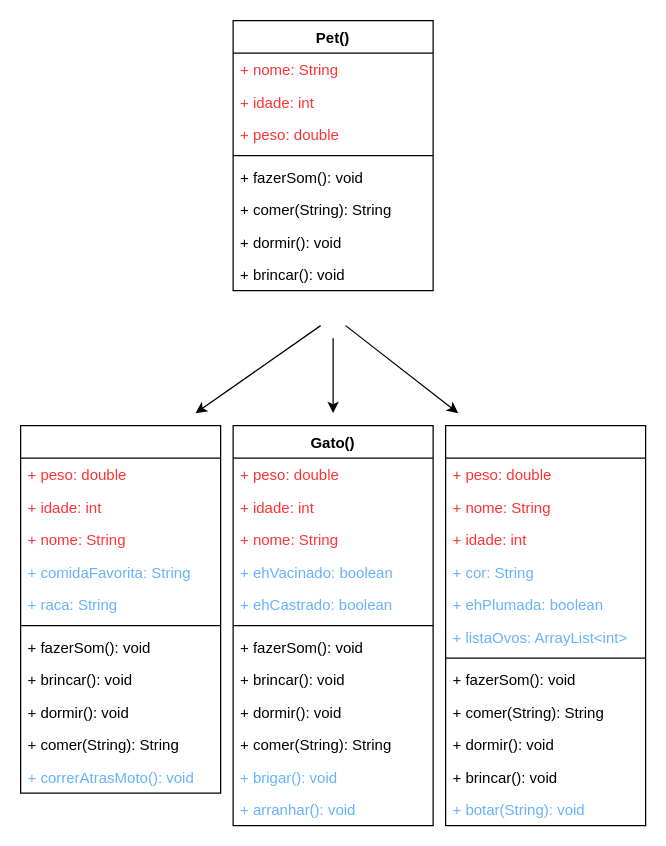
Image size: 666x846. Some labels were removed from this diagram. The box of each missing label's shape, as (x1, y1, x2, y2) in pixels:
Cachorro(): (19, 424, 221, 793)
Galinha(): (444, 424, 646, 826)
